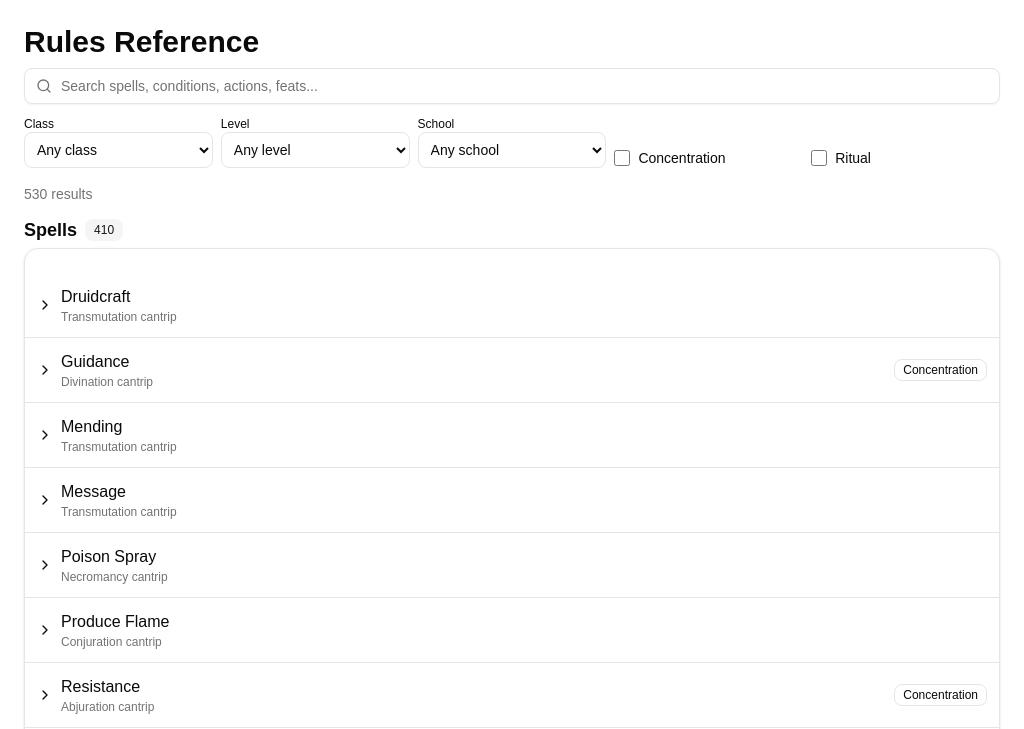
Test case: RulesPage › shows the empty state
In the search field named "Search the rules": {"x": 512, "y": 86} [24,68,1000,104], type "zzzzqqq"
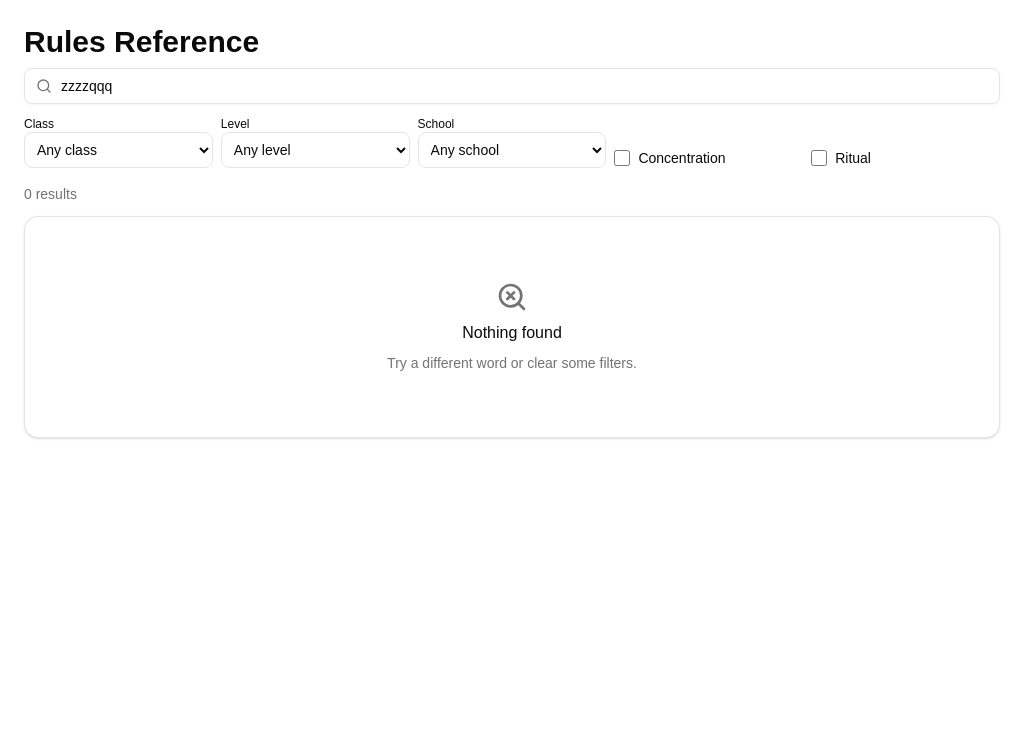
Expected: the text "Nothing found" is shown, [462,321,562,345]
